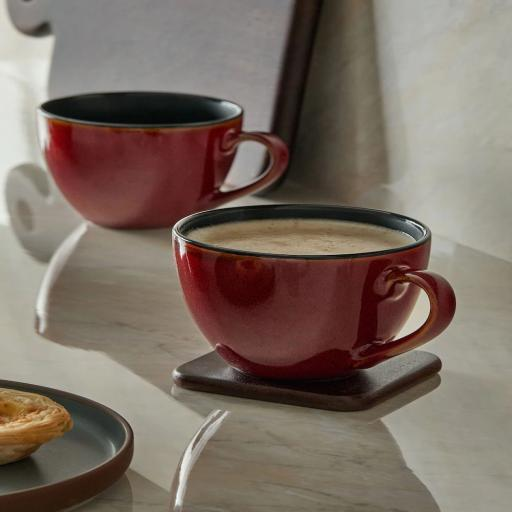cup: (173, 204, 457, 379), (37, 91, 289, 232)
